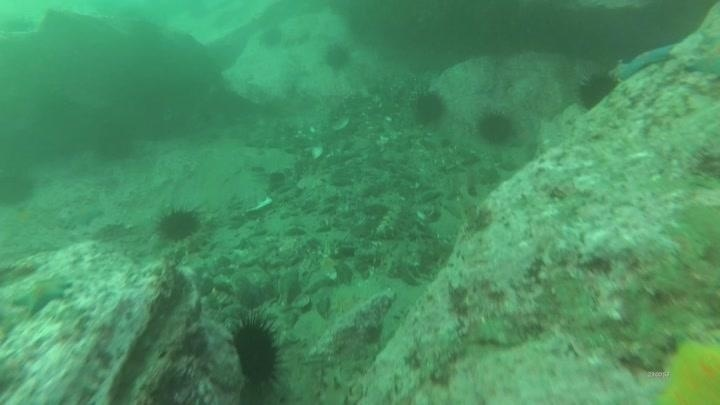echinus: (228, 315, 287, 390), (574, 69, 620, 112), (92, 124, 138, 164), (155, 205, 203, 243), (475, 109, 517, 147), (1, 169, 38, 209), (410, 89, 448, 127), (321, 41, 353, 72), (257, 25, 285, 51)
holothurian: (314, 363, 359, 405), (372, 192, 407, 242)
starfish: (647, 336, 720, 405), (11, 274, 72, 316), (611, 43, 677, 81), (684, 30, 720, 81), (62, 202, 106, 230)
